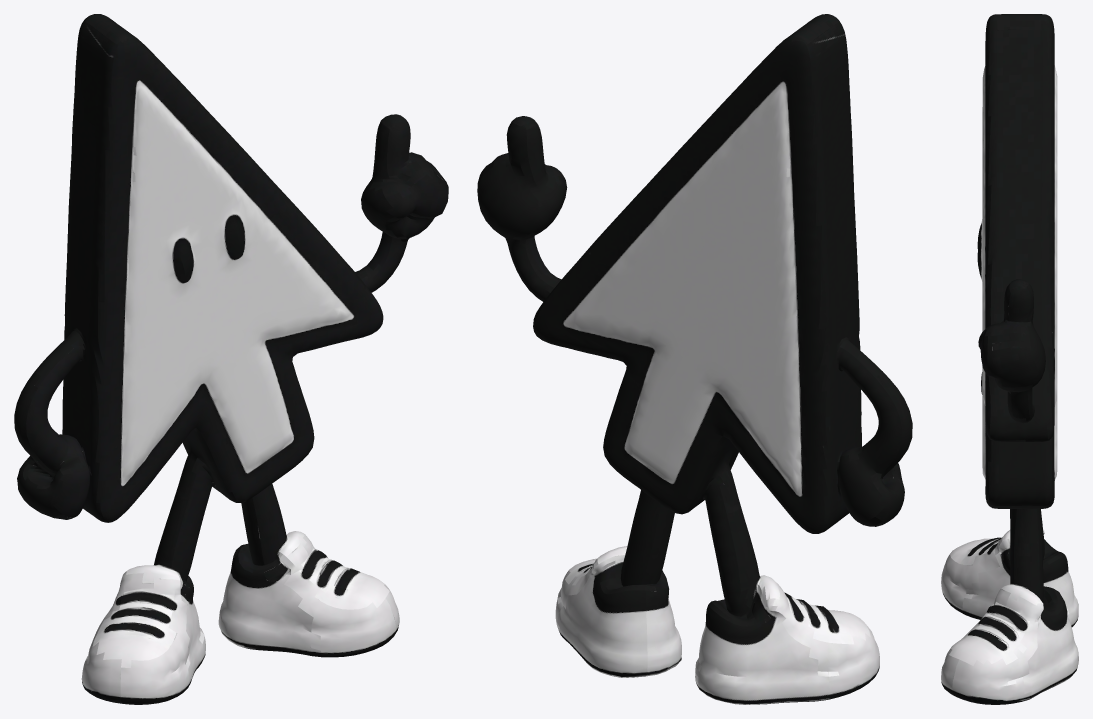
The model's file is mascot.glb.
The picture shows the model from 3 angles, left to right: view 1: azimuth 30°, elevation 25°; view 2: azimuth 150°, elevation 25°; view 3: azimuth 270°, elevation 25°; orthographic projection. The views are drawn at different scales.
Visible parts, largest first — view 1: Mesh0; view 2: Mesh0; view 3: Mesh0.
Part boxes in pixels (x1=…): Mesh0: x1=14, y1=14, x2=448, y2=704; Mesh0: x1=477, y1=14, x2=912, y2=704; Mesh0: x1=941, y1=14, x2=1078, y2=704.
Bounding box in the file's own units: 1.28 × 1.9 × 0.409.
Materials: 1 (1 with a texture image).
